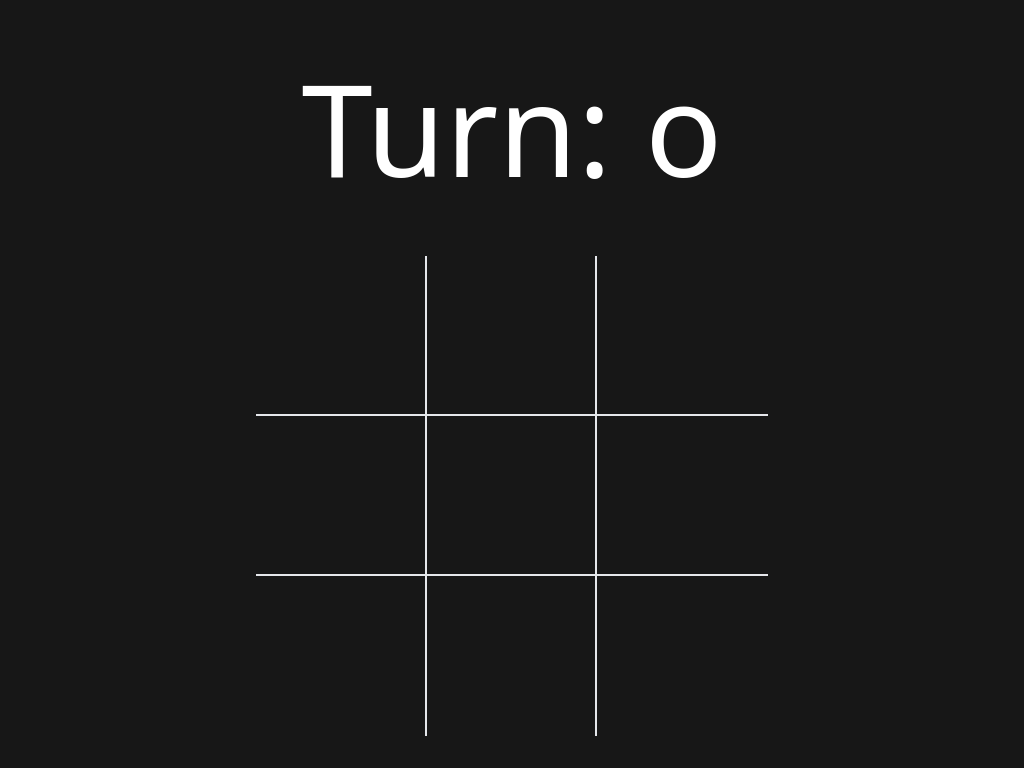
Test: game is won by player O diagonally
Click the element with test id "row:0, col:0": (341, 336) [256,256,427,416]
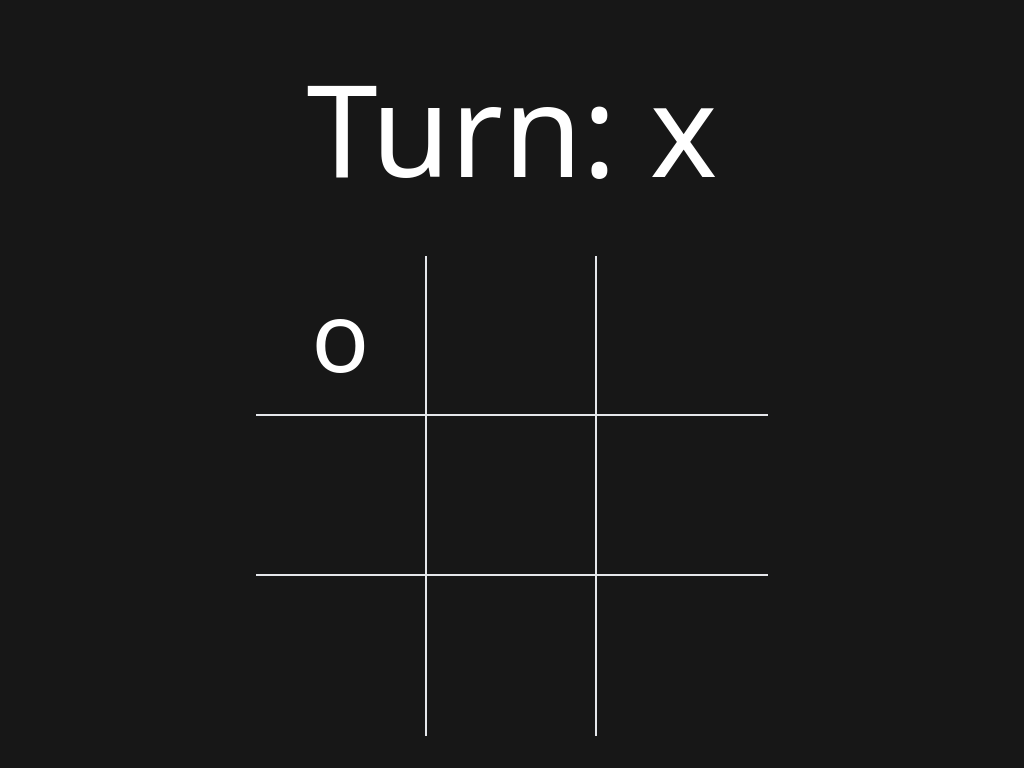
Click the element with test id "row:0, col:1": (512, 336) [427,256,597,416]
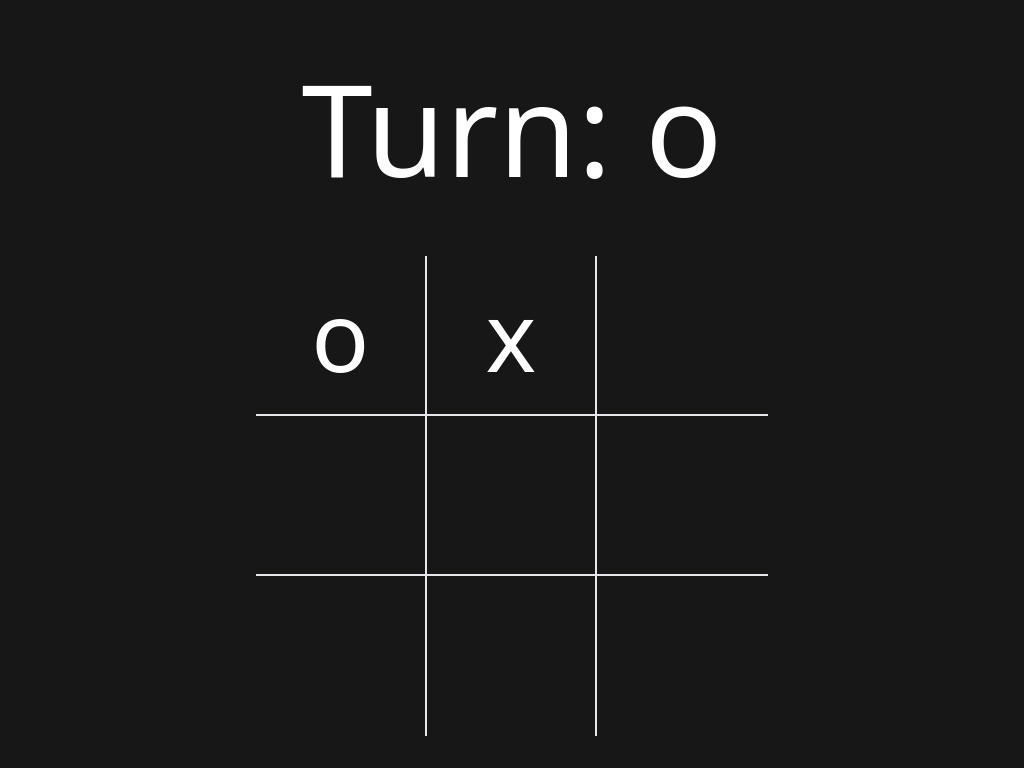
Click the element with test id "row:1, col:1": (512, 496) [427,416,597,576]
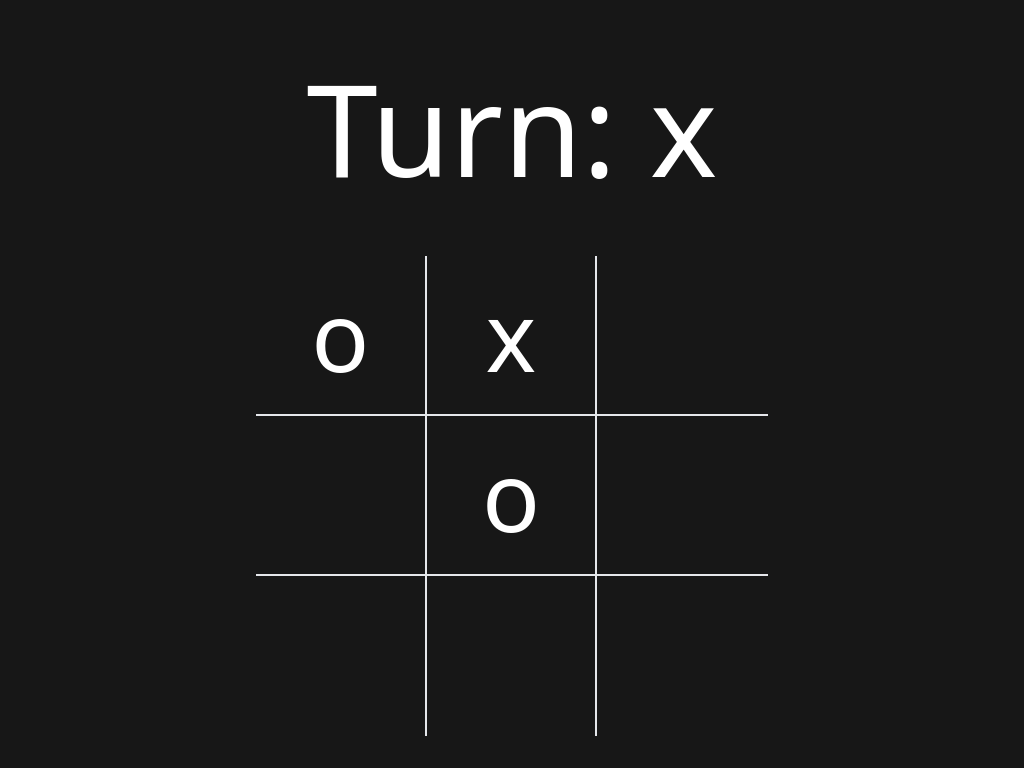
Click the element with test id "row:0, col:2": (683, 336) [597,256,768,416]
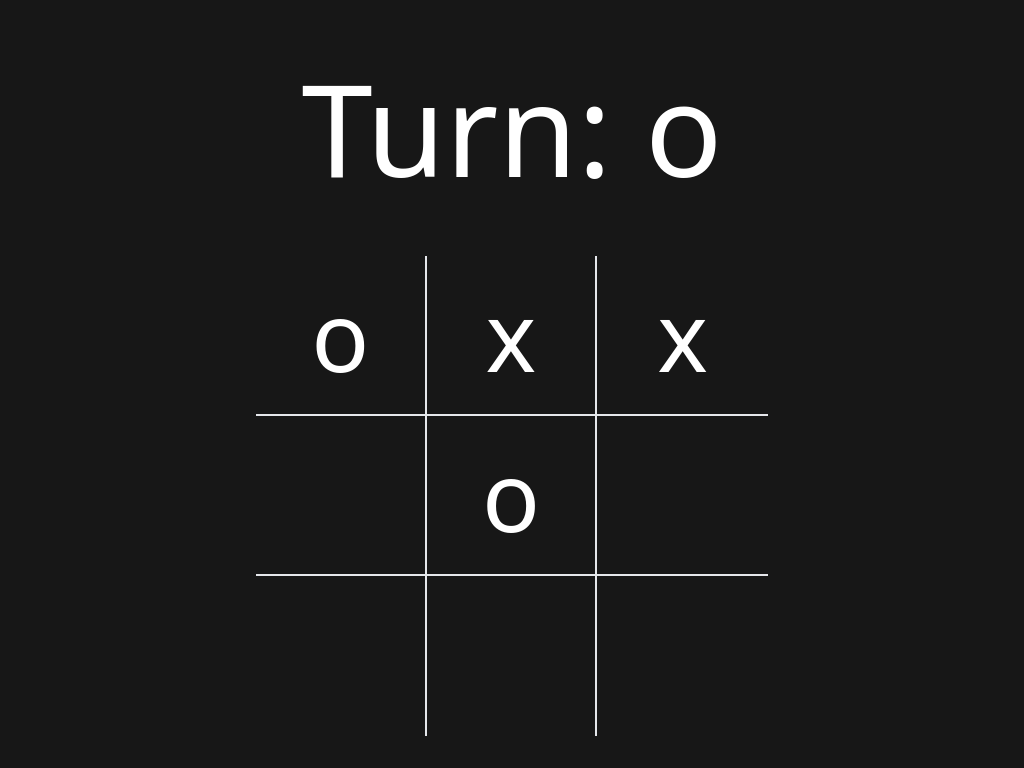
Click the element with test id "row:2, col:2": (683, 656) [597,576,768,736]
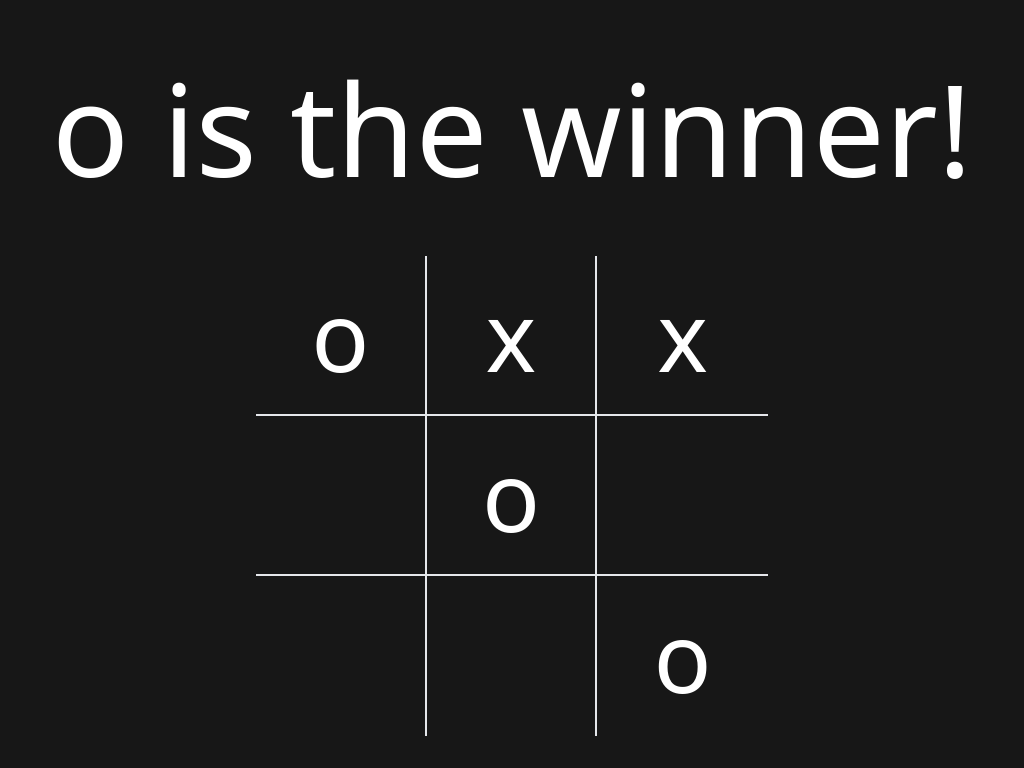
Now the heading "o is the winner!" is shown, box [52,64,972,192]
